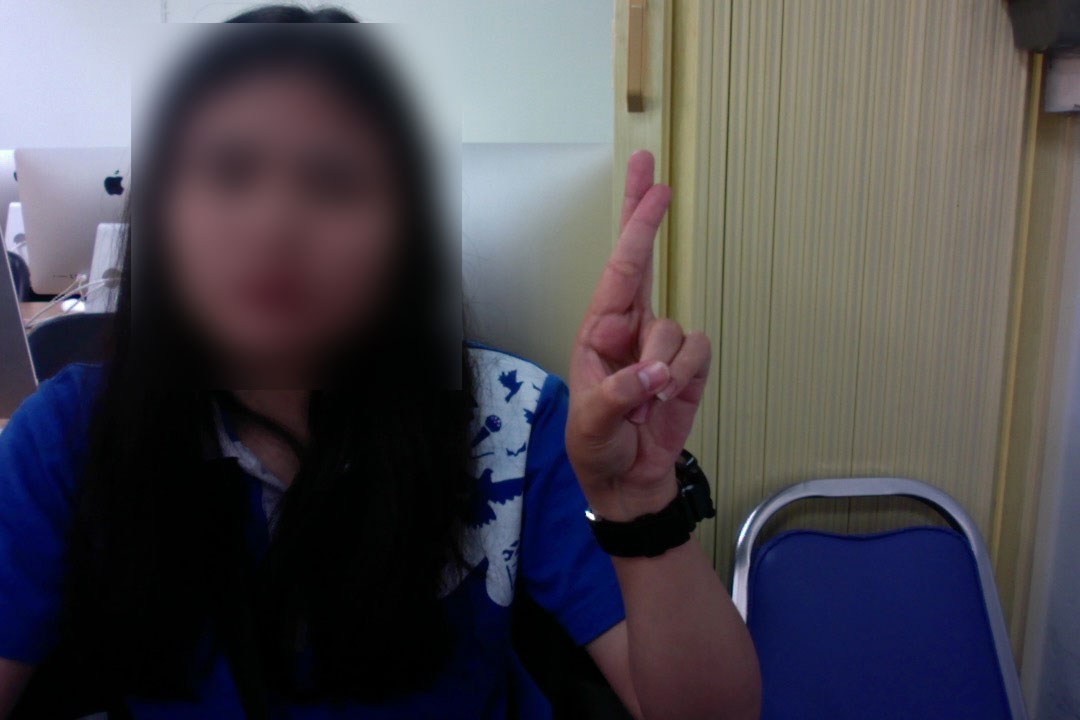rao: (556, 145, 717, 500)
